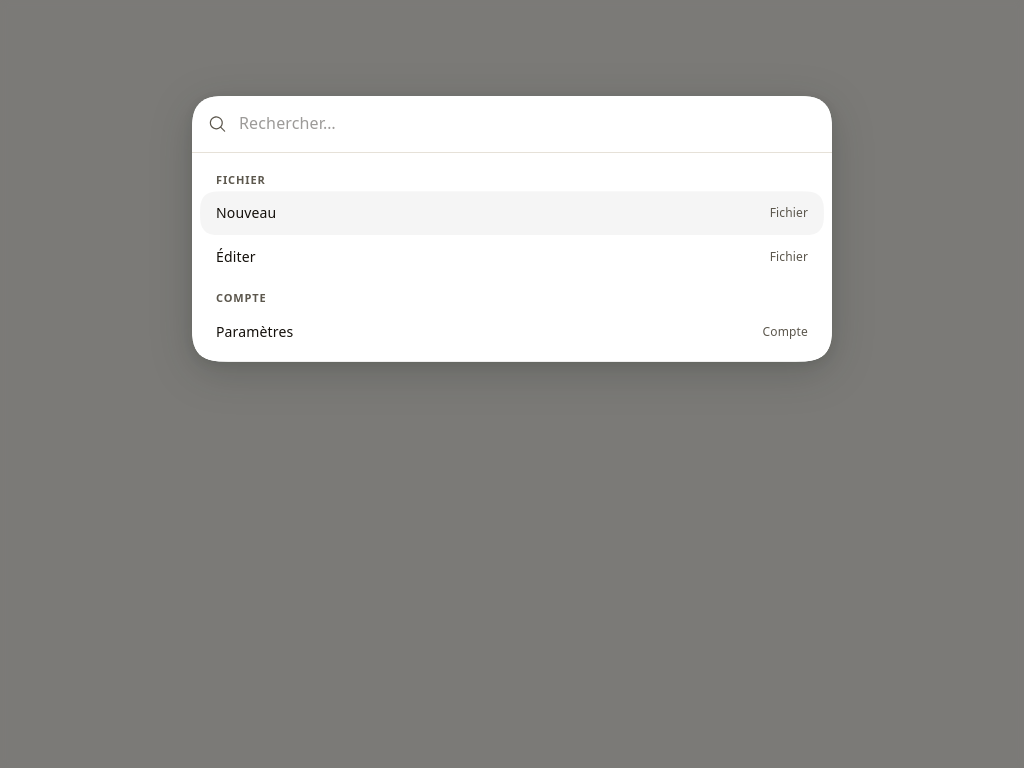
CommandPalette › filtre en ignorant la casse et les accents sur le label
Step 1. Type "EDIT" into the dropdown labelled "Rechercher…" → (528, 124), box [239,108,816,140]
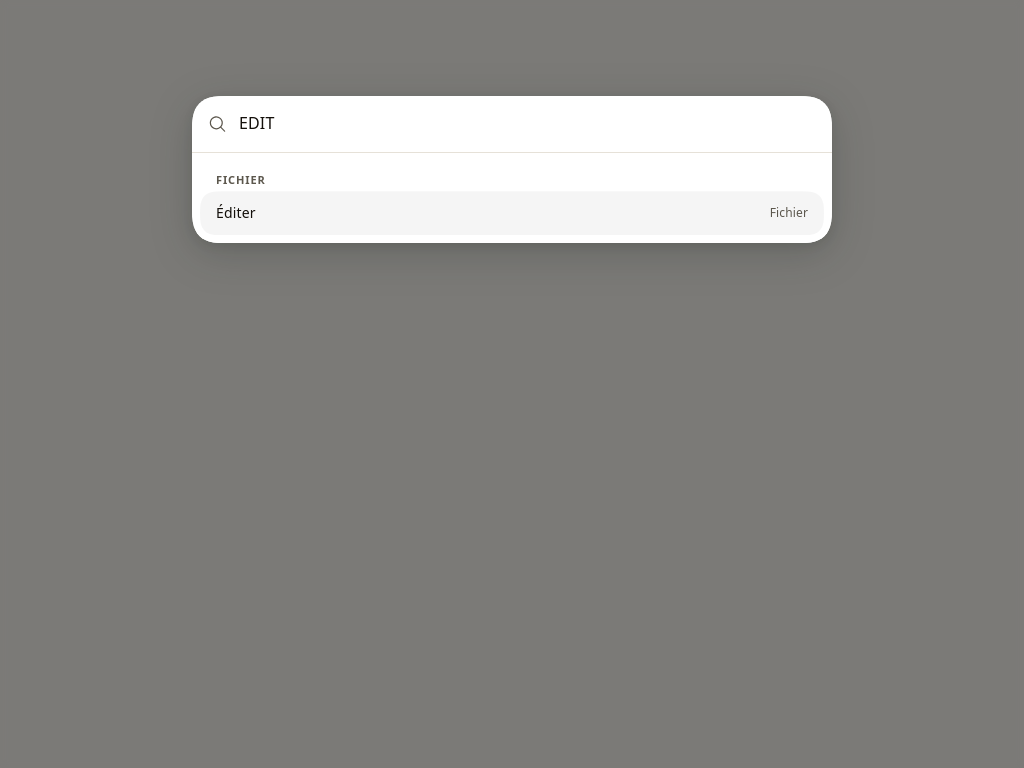
Expected: the option shows "Éditer", [216,203,808,222]
Expected: the number of options is 1, [216,203,808,222]
